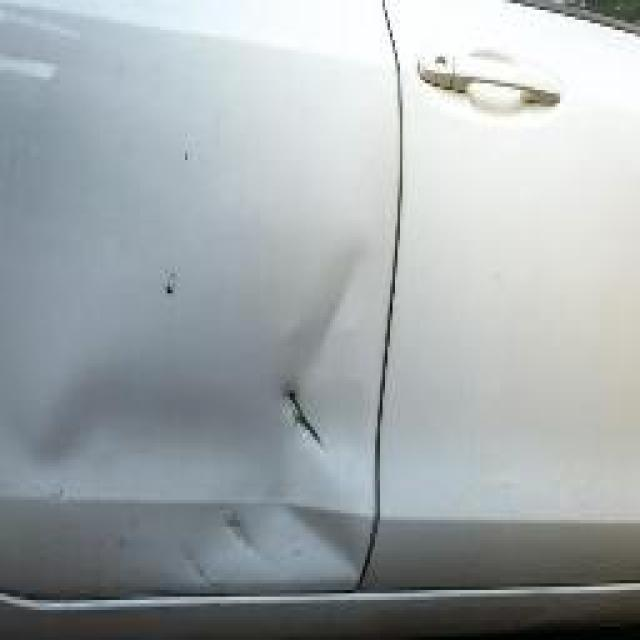Door: (152, 193, 375, 613)
